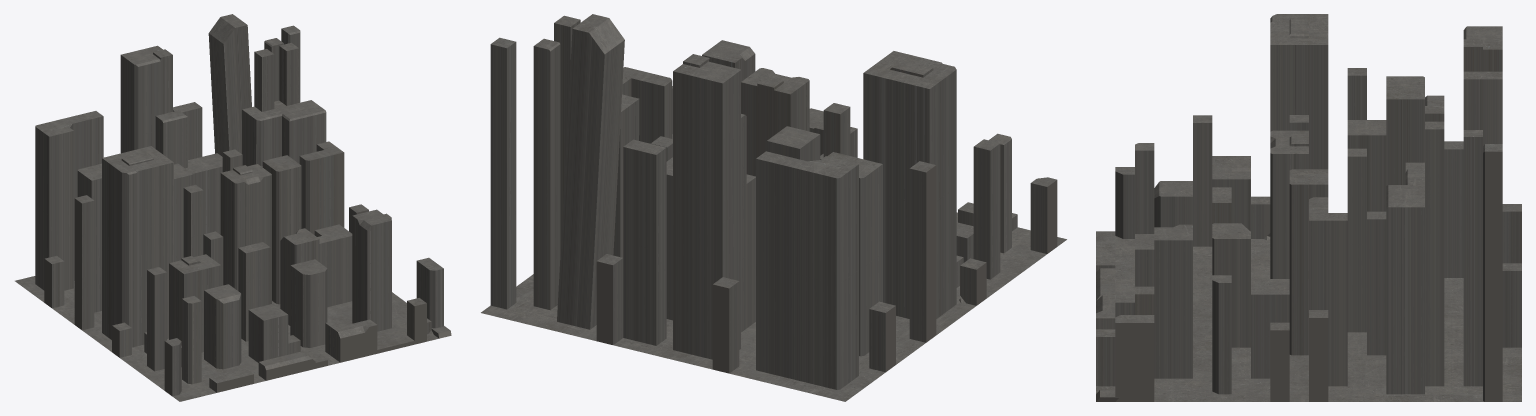
The model's file is world5.obj.
3 views of the same model, side by side, from view 1: azimuth 30°, elevation 25°; view 2: azimuth 150°, elevation 25°; view 3: azimuth 270°, elevation 25° (orthographic). The views are drawn at different scales.
Visible parts, largest first — view 1: city.002; view 2: city.002; view 3: city.002.
Boxes of the visible parts, bbox=[...] form: city.002: bbox=[15, 14, 451, 401]; city.002: bbox=[481, 14, 1066, 401]; city.002: bbox=[1096, 14, 1521, 401].
Bounding box in the file's own units: 148 × 115 × 156.
